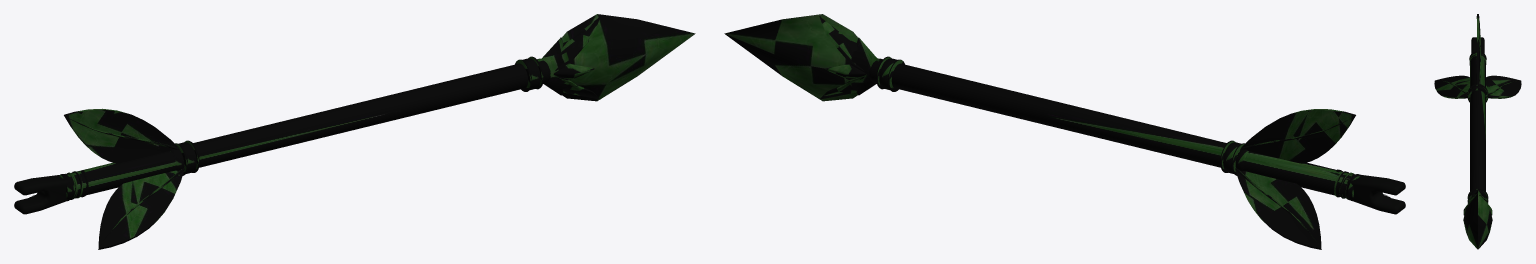
The model's file is bow_arrow.glb.
The picture shows the model from 3 angles, left to right: view 1: azimuth 30°, elevation 25°; view 2: azimuth 150°, elevation 25°; view 3: azimuth 270°, elevation 25°; orthographic projection. The views are drawn at different scales.
Bounding box in the file's own units: 2 × 0.3283 × 0.3589.
1 material, 1 textured.
